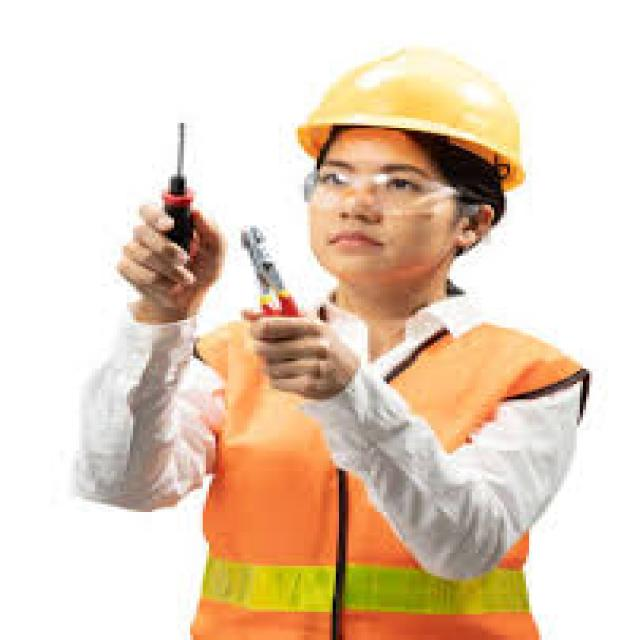Reflective-Jacket: (174, 286, 567, 640)
Safety-Helmet: (288, 38, 532, 182)
